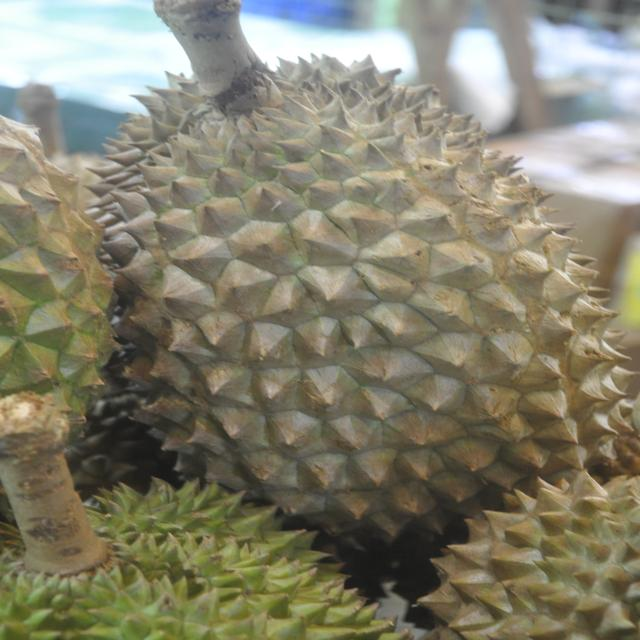mature: (85, 50, 640, 562)
